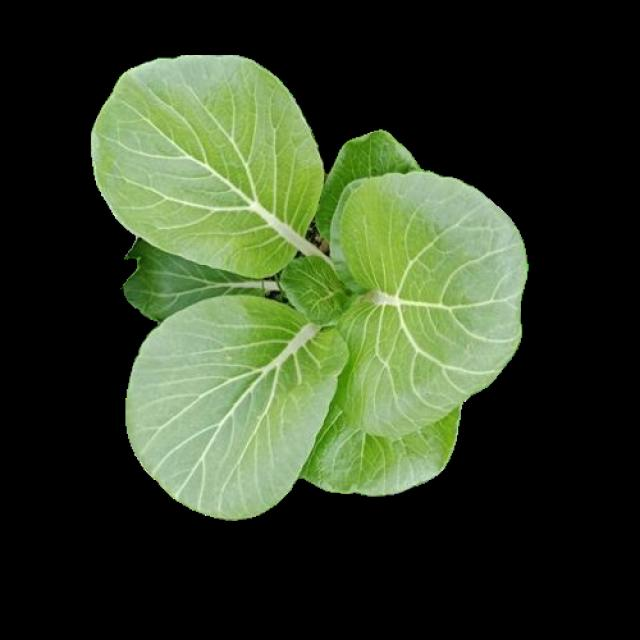healthy: (97, 71, 521, 517)
not-mature: (90, 58, 524, 520)
